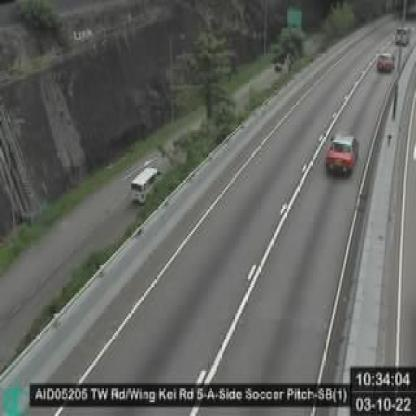Car: (322, 132, 359, 173), (131, 166, 161, 203), (376, 52, 395, 71)
